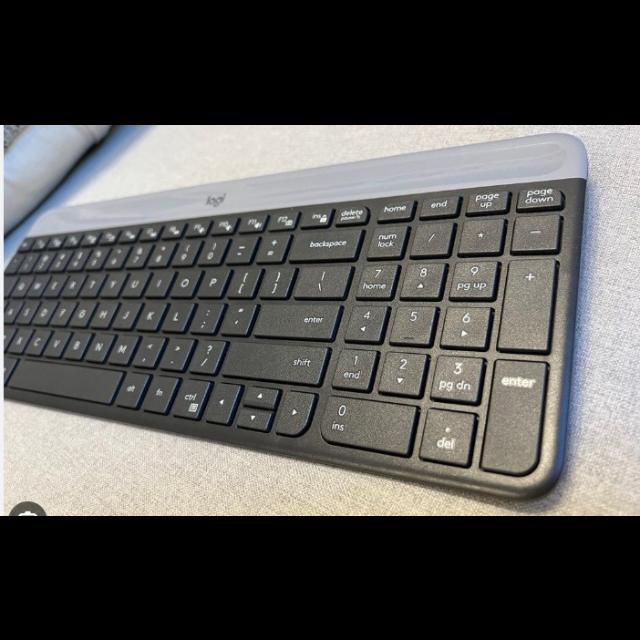Computer-Keyboard: (2, 132, 588, 511)
